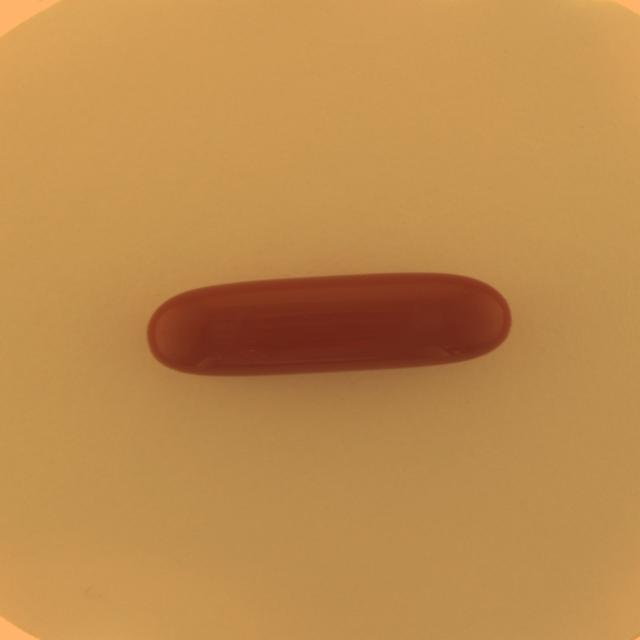Oval: (145, 274, 507, 375)
